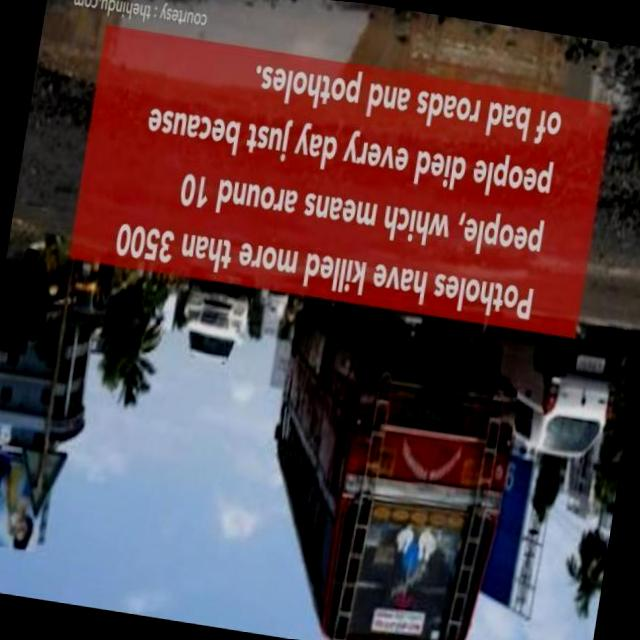Pathole: (39, 0, 639, 152)
